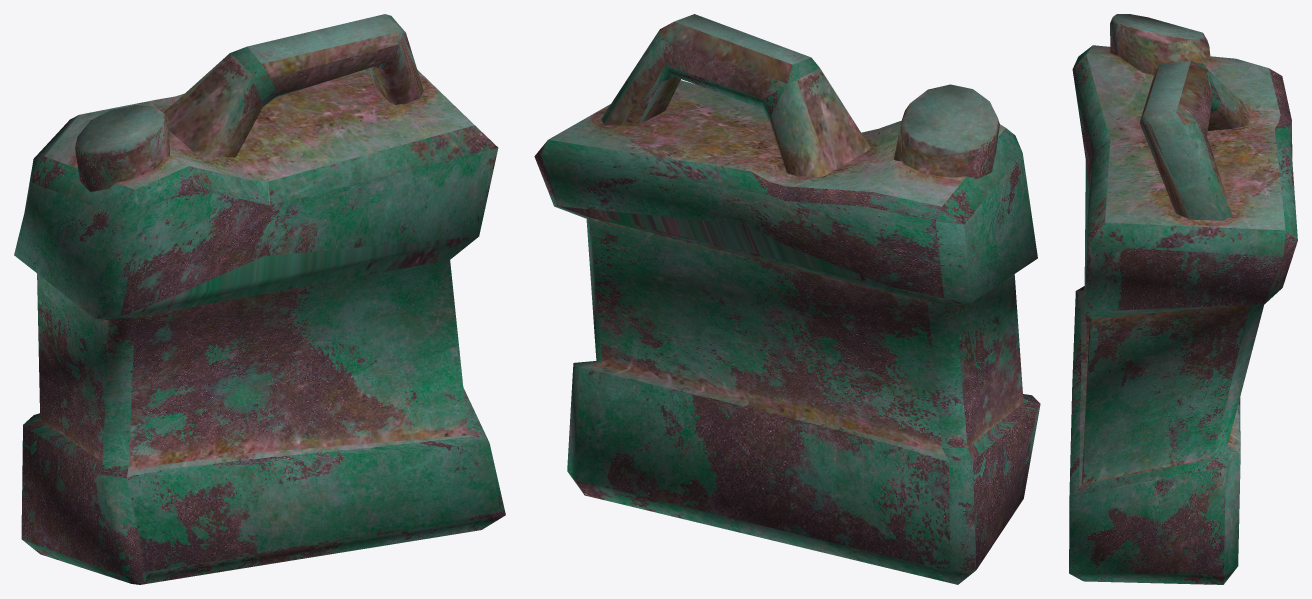
File: Gas_Can_broken_2.fbx
3 views of the same model, side by side, from view 1: azimuth 30°, elevation 25°; view 2: azimuth 150°, elevation 25°; view 3: azimuth 270°, elevation 25° (orthographic). The views are drawn at different scales.
Parts seen in each view (by area): view 1: 2Gas_Can_broken_LOD0; view 2: 2Gas_Can_broken_LOD0; view 3: 2Gas_Can_broken_LOD0.
Part boxes in pixels (x1=…): 2Gas_Can_broken_LOD0: x1=14, y1=14, x2=505, y2=584; 2Gas_Can_broken_LOD0: x1=534, y1=14, x2=1040, y2=584; 2Gas_Can_broken_LOD0: x1=1069, y1=14, x2=1297, y2=584.
Size of what is drawn, in the model's own units: 73.79 by 81.6 by 37.78.
